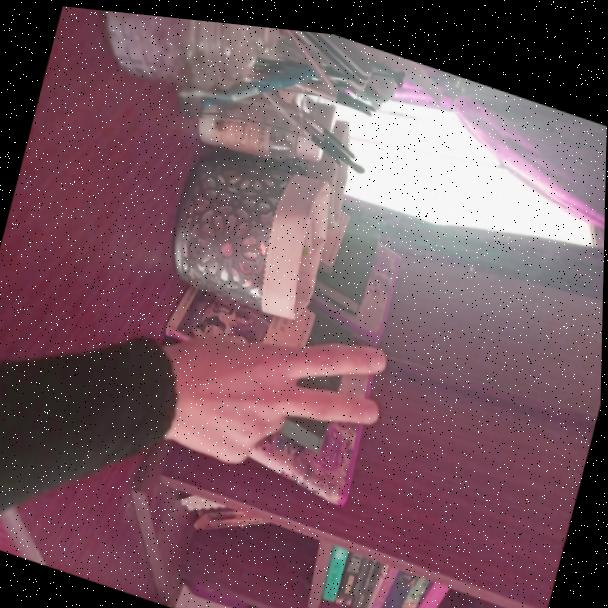two: (122, 235, 417, 561)
